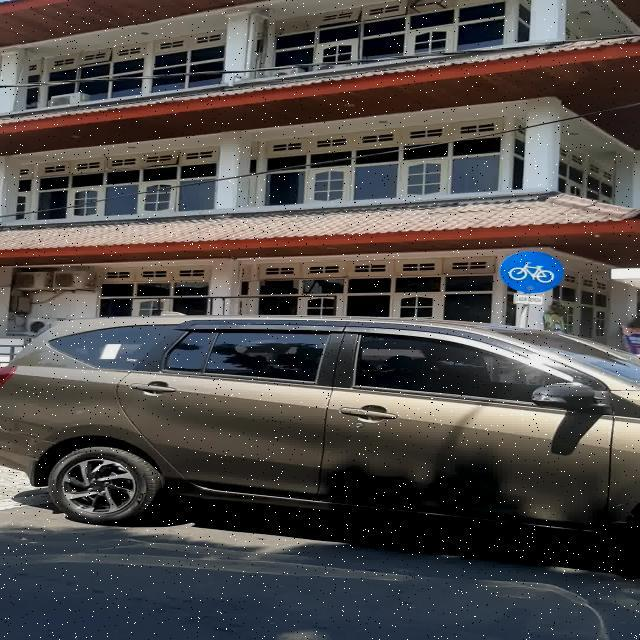Jalur Sepeda: (499, 250, 564, 294)
